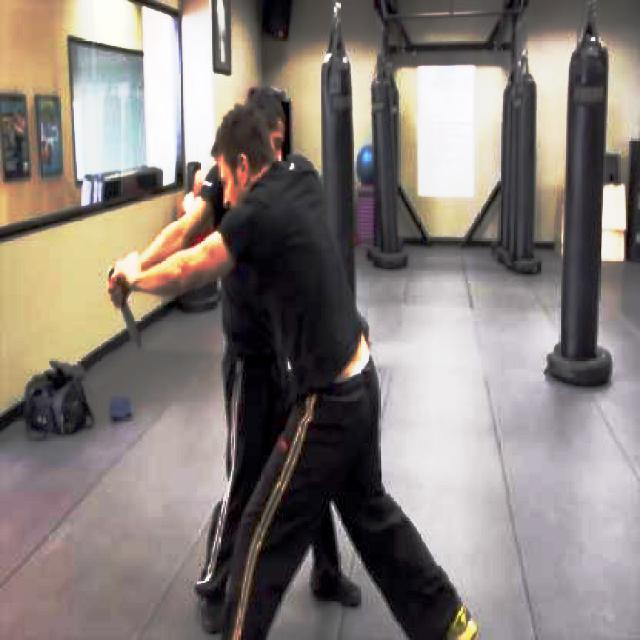Knife: (98, 264, 144, 344)
